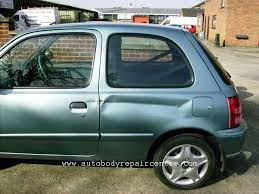Dent: (95, 94, 198, 122)
